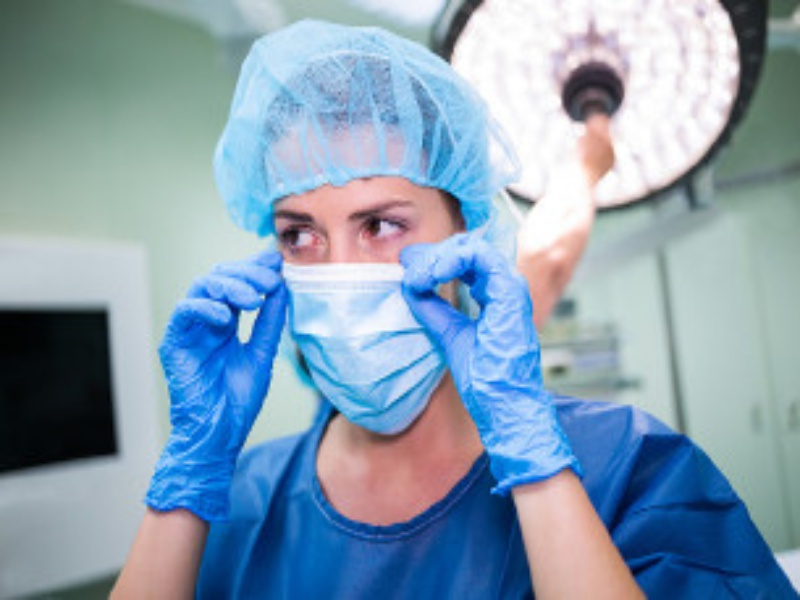mask: (253, 27, 495, 434)
